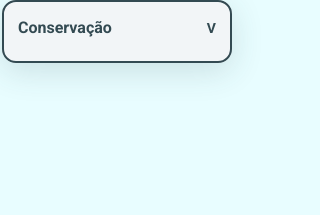
Test: FilterGroup › collapses again when the title is clicked twice
The width and height of the screenshot is (320, 215).
Click the button "Conservação V".
click(117, 28)  # box [18,14,216,41]
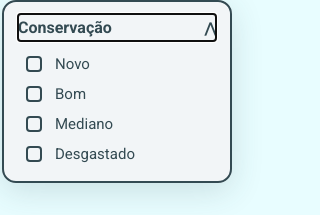
Click the button "Conservação ⋀".
click(117, 28)  # box [18,14,216,41]
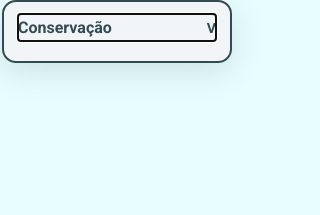
Check: the icon "V" is shown, box [207,20,216,36]
